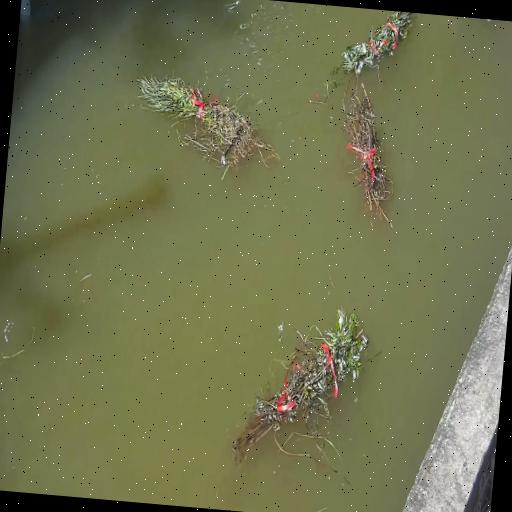twig: (230, 297, 375, 481), (128, 68, 280, 182), (331, 81, 404, 230), (332, 8, 416, 92), (0, 315, 35, 487)
